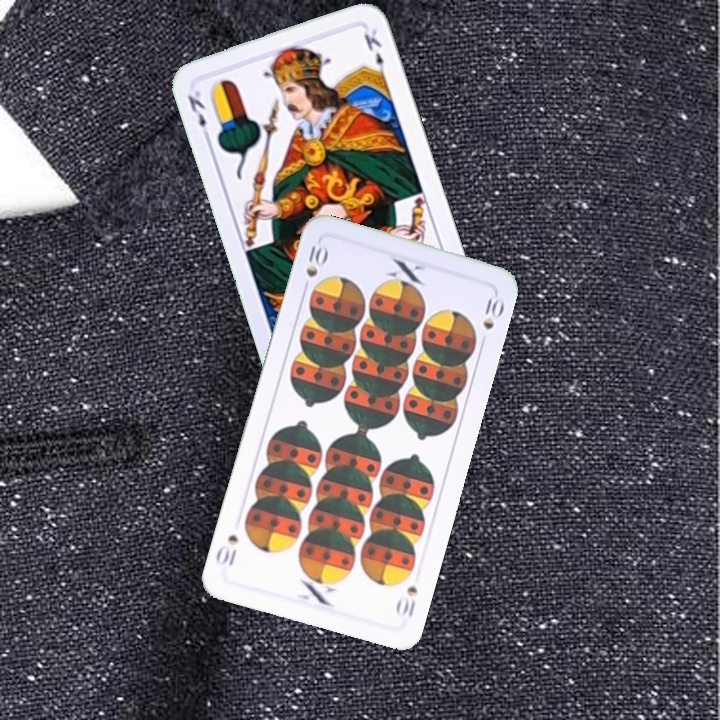EK: (183, 86, 213, 142)
S10: (302, 241, 330, 280), (392, 582, 420, 620)
